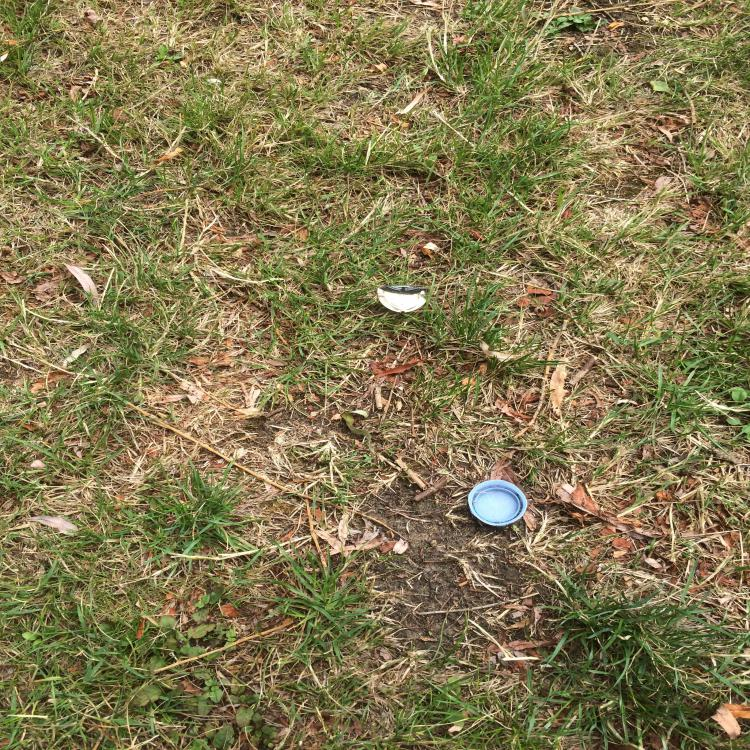Metal bottle cap: (377, 286, 428, 313)
Plastic bottle cap: (468, 480, 527, 526)
